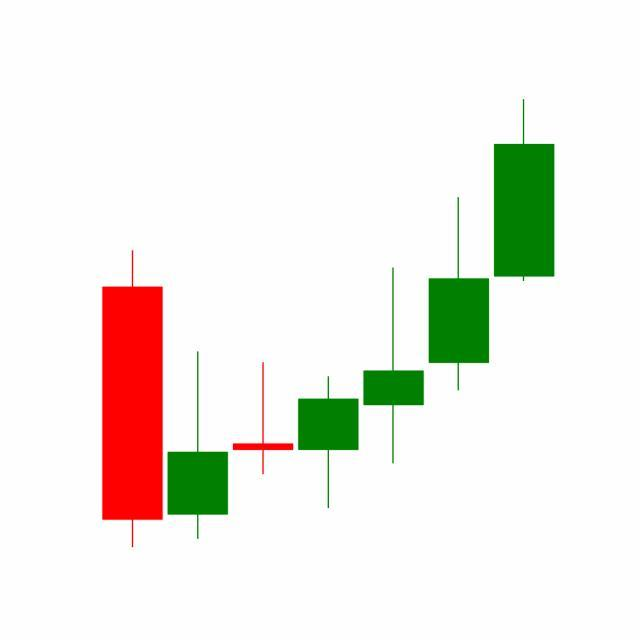Hikkake Pattern: (165, 194, 492, 544)
